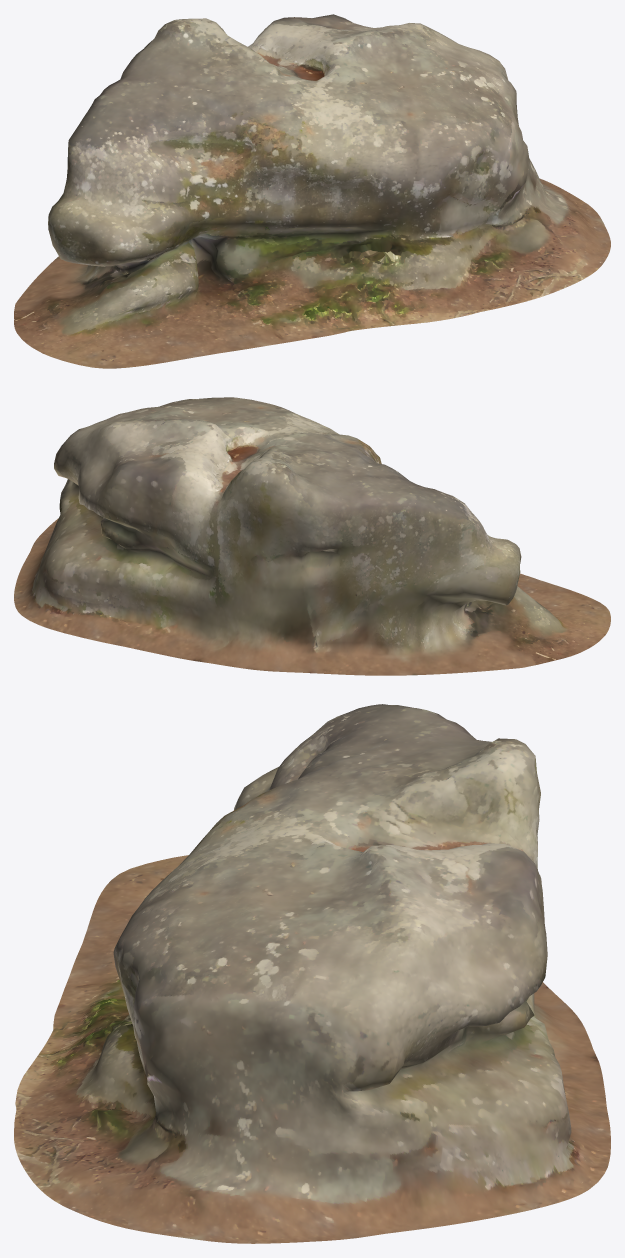
The model's file is Rock_12.FBX.
The picture shows the model from 3 angles, top to bottom: view 1: azimuth 30°, elevation 25°; view 2: azimuth 150°, elevation 25°; view 3: azimuth 270°, elevation 25°; orthographic projection. The views are drawn at different scales.
Visible parts, largest first — view 1: Rock12_LOD0; view 2: Rock12_LOD0; view 3: Rock12_LOD0.
Part boxes in pixels (x1,y1,x2,y2): Rock12_LOD0: (14, 14, 610, 368); Rock12_LOD0: (14, 397, 610, 675); Rock12_LOD0: (14, 704, 610, 1243).
Size of what is drawn, in the model's own units: 12.21 by 7.85 by 4.06.
1 material, 1 textured.
